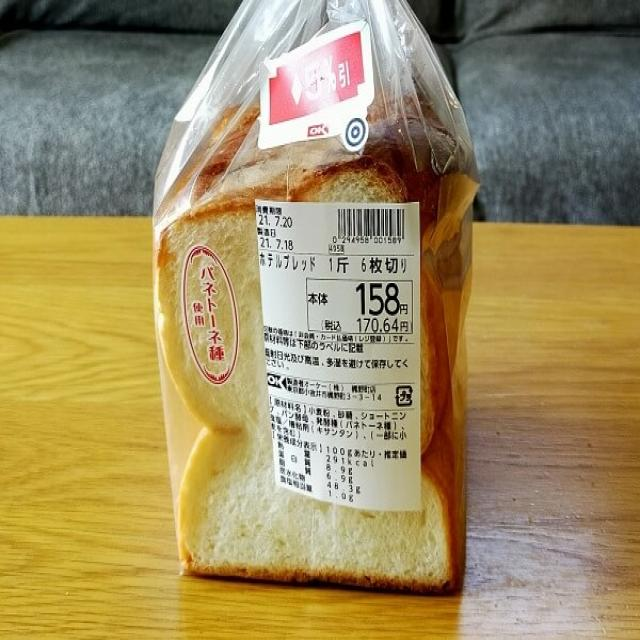bread: (153, 0, 484, 599)
